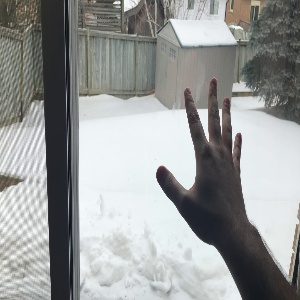hand: (156, 79, 247, 226)
